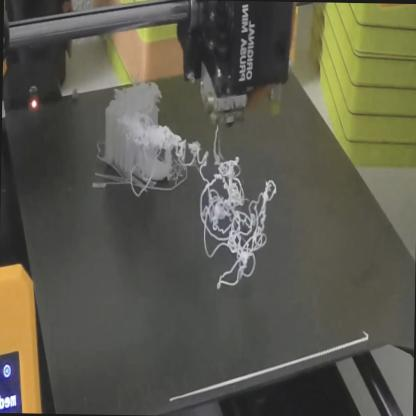fail: (176, 131, 279, 298), (135, 118, 177, 171)
